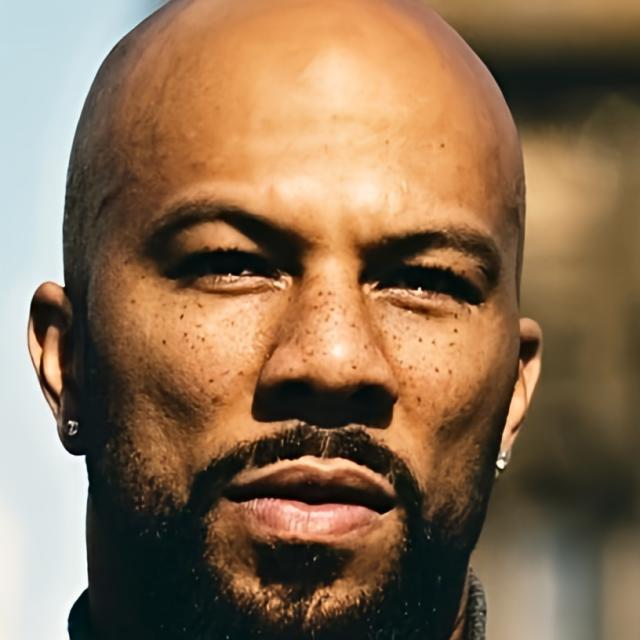anger: (97, 28, 519, 594)
